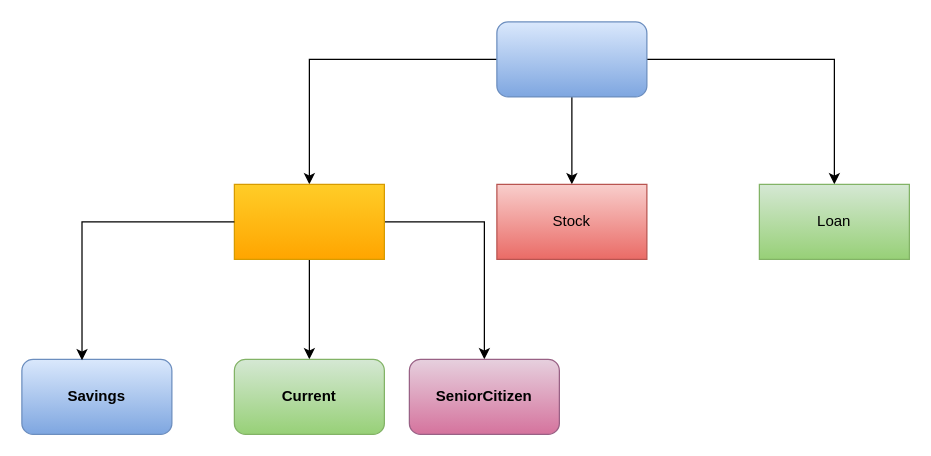
Some shapes in this 931 by 456 pixel diagram are drawn without their labels. Each missing label, with the centre of its shape:
Banking: (308,221)
HDFC: (571,59)
